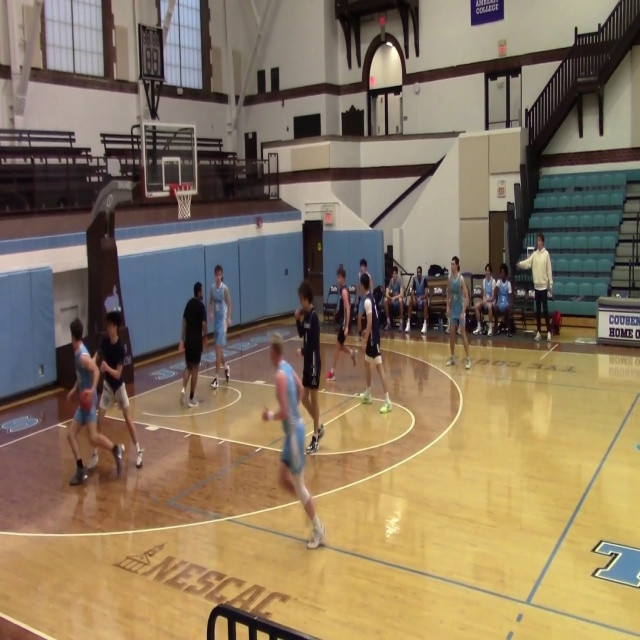Basketball: (79, 390, 94, 411)
